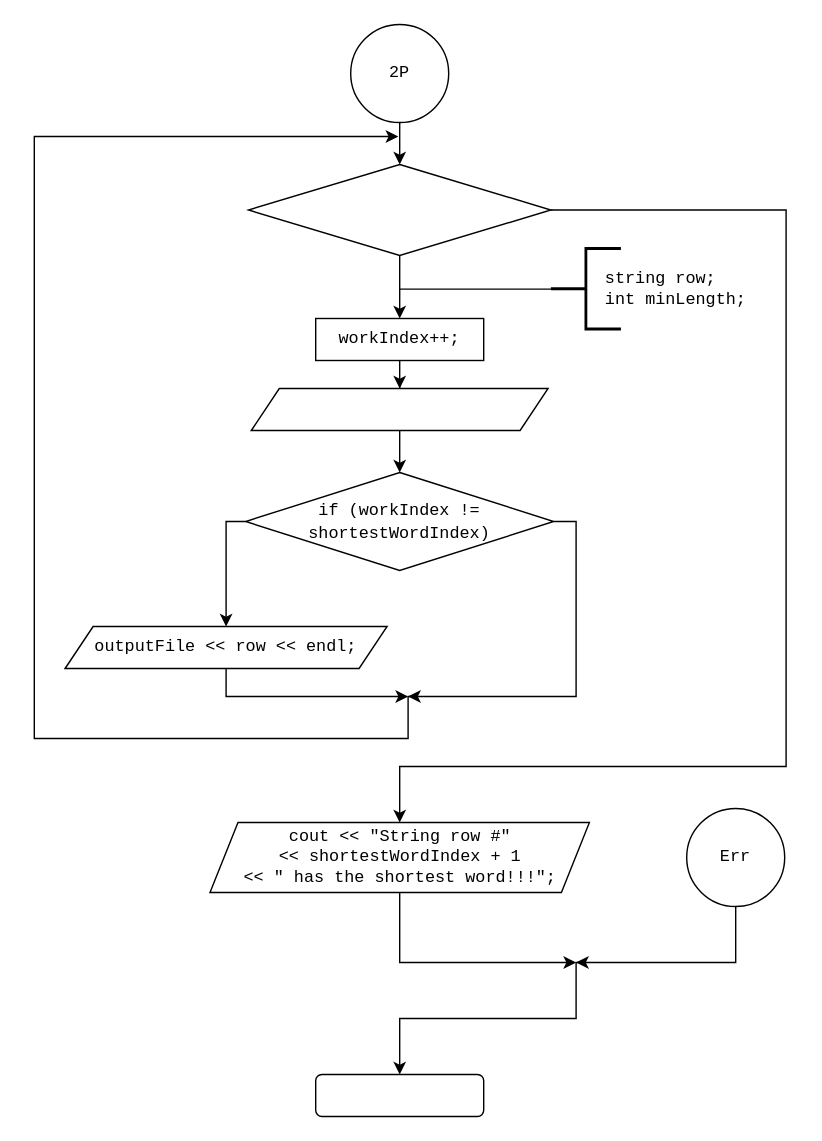
The diagram is 822 pixels wide and 1141 high, and some of its shapes have lost their labels. Each missing label, with the centre of its shape:
"getline(inputFile, row);" belongs at point 399,408.
"return 0;" belongs at point 399,1094.
"while (!inputFile.eof())" belongs at point 399,209.
